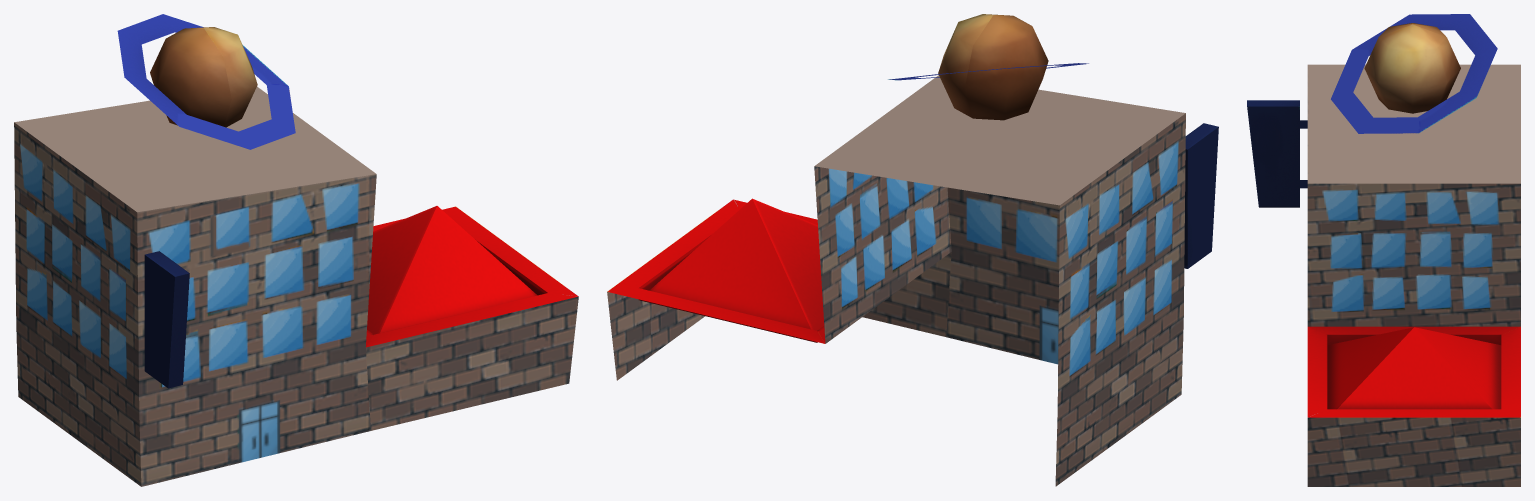
The model's file is pk_model_shangdian.FBX.
3 renders of one model, left to right at view 1: azimuth 30°, elevation 25°; view 2: azimuth 150°, elevation 25°; view 3: azimuth 270°, elevation 25°, orthographic. The views are drawn at different scales.
Visible parts, largest first — view 1: pk_model_shangdian; view 2: pk_model_shangdian; view 3: pk_model_shangdian.
Boxes of the visible parts, x1,y1,x2,y2 form: pk_model_shangdian: (14,14,578,486); pk_model_shangdian: (607,14,1218,486); pk_model_shangdian: (1247,14,1520,486).
Size of the model in its own units: 1564 by 1304 by 970.
